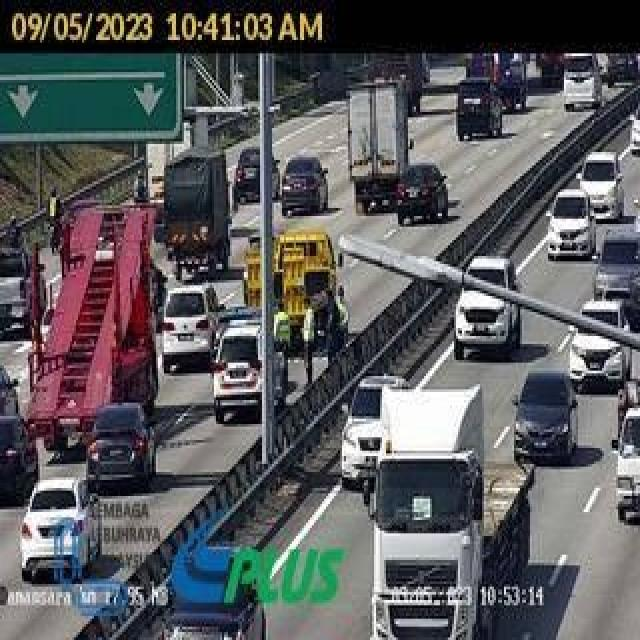Car: (20, 478, 101, 586), (212, 318, 288, 425), (341, 374, 409, 489), (453, 256, 521, 357), (508, 369, 578, 462), (565, 303, 634, 391), (90, 401, 158, 488), (162, 285, 226, 373), (592, 229, 640, 327), (546, 188, 596, 264), (0, 414, 40, 506), (574, 150, 626, 220), (395, 164, 448, 228), (232, 144, 282, 205), (282, 156, 331, 217), (628, 98, 640, 156)
Truck: (368, 379, 536, 640), (21, 191, 164, 461), (241, 228, 340, 351), (162, 146, 234, 281), (346, 76, 411, 212)
Van: (452, 75, 503, 142), (558, 49, 605, 111)
